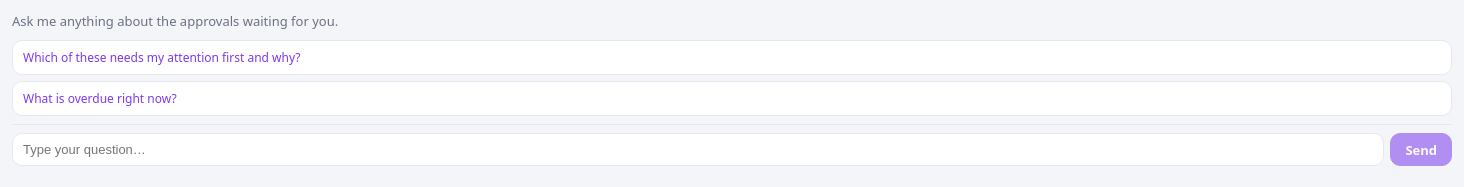
Test: ChatPanel: loading state › shows the user's message and a thinking indicator before the first token, and locks input
The image size is (1464, 187).
Type "Which first?" into the field named "message the assistant".
click(698, 150); type("Which first?")  # box [12,133,1384,166]
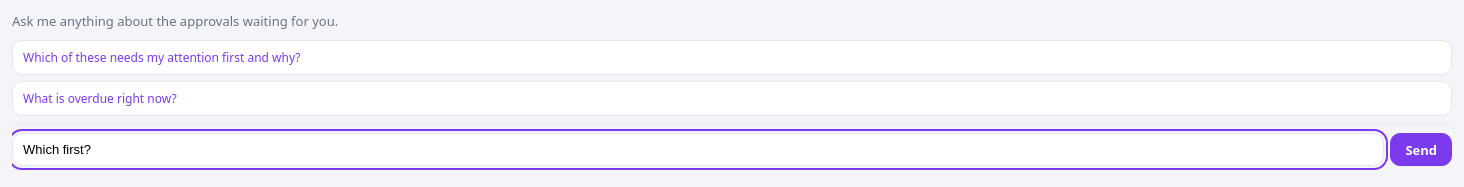
Click the button "Send".
click(1421, 150)  # box [1390,133,1452,166]
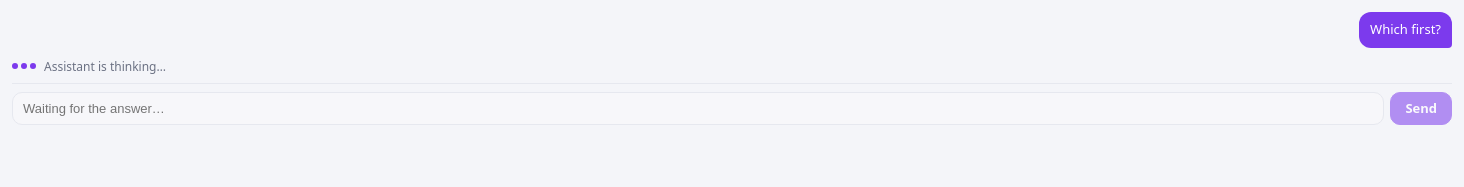
Check: the text "Which first?" is shown, box [1359,12,1452,48]
Check: the message shows "thinking", box [44,58,166,74]
Check: the field named "message the assistant" is disabled, box [12,92,1384,124]
